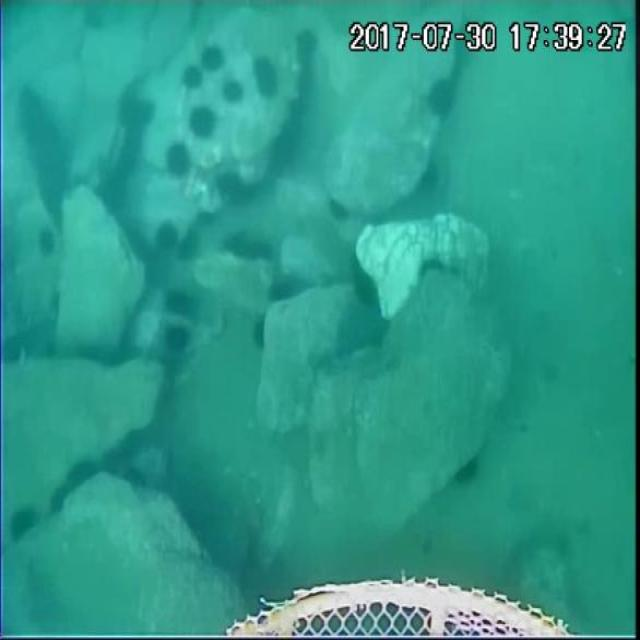echinus: (35, 158, 69, 214), (114, 96, 160, 136), (25, 115, 65, 161), (426, 74, 460, 122), (249, 54, 281, 102), (160, 139, 194, 184), (95, 176, 130, 219), (14, 83, 44, 133), (7, 504, 38, 549), (353, 271, 383, 317), (265, 274, 308, 306), (158, 283, 196, 317), (184, 107, 218, 144), (152, 220, 183, 257), (160, 321, 193, 355), (194, 41, 226, 76), (216, 76, 247, 111), (292, 29, 323, 63), (97, 445, 127, 480), (217, 232, 248, 264), (324, 193, 354, 226), (175, 227, 201, 265), (242, 238, 276, 266), (247, 314, 270, 354), (48, 485, 77, 515), (178, 62, 205, 94), (67, 460, 101, 484), (121, 464, 151, 491), (38, 225, 57, 256)
